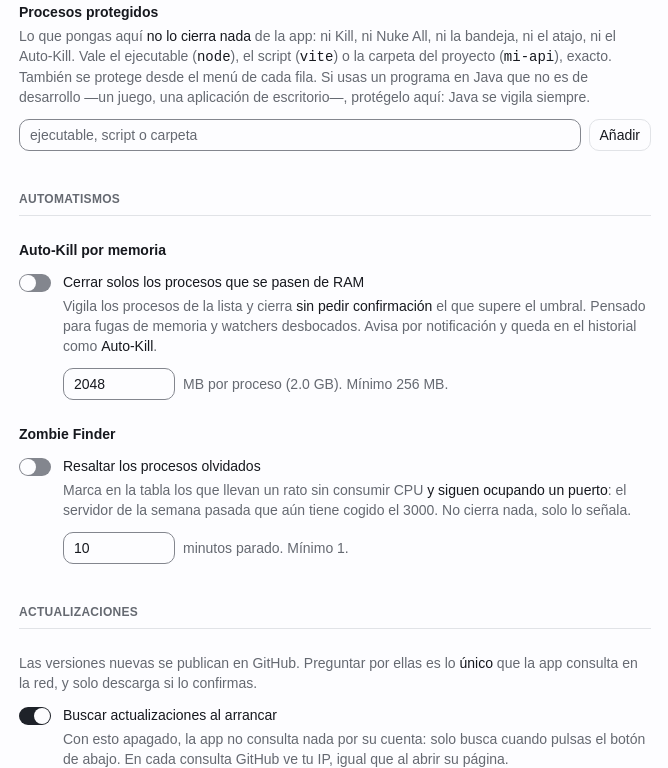
umbral del Auto-Kill › sube a 256 lo que se escriba por debajo
The image size is (668, 768).
(page scrolled)
Replace the text in the number field named "Umbral de RAM en MB" with "50". click: [119, 384]
box: [63,368,175,400]
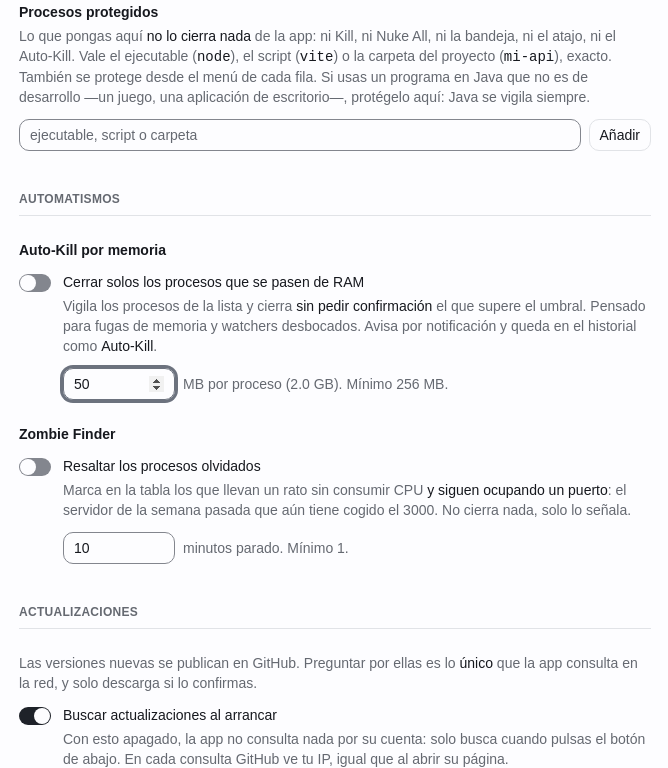
Press Tab
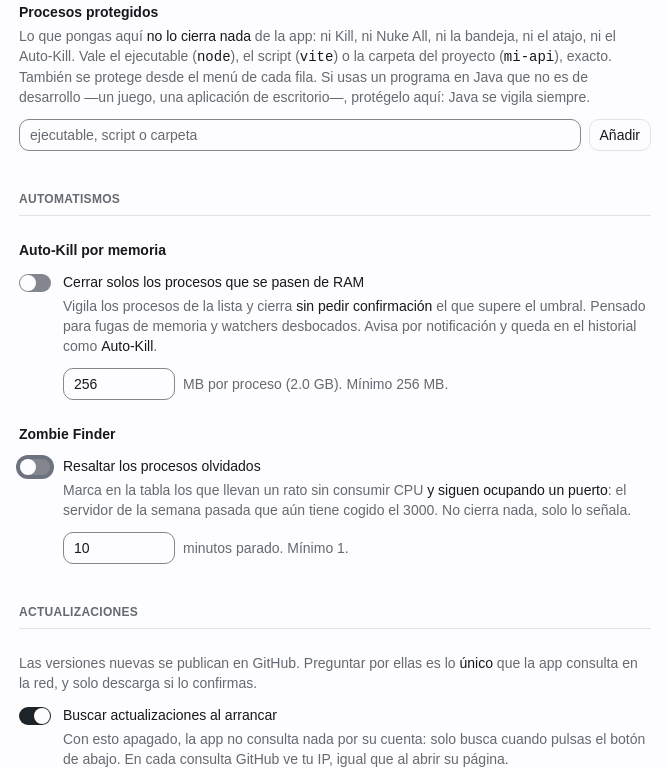
Result: the number field named "Umbral de RAM en MB" holds "256" at [63,368,175,400]
